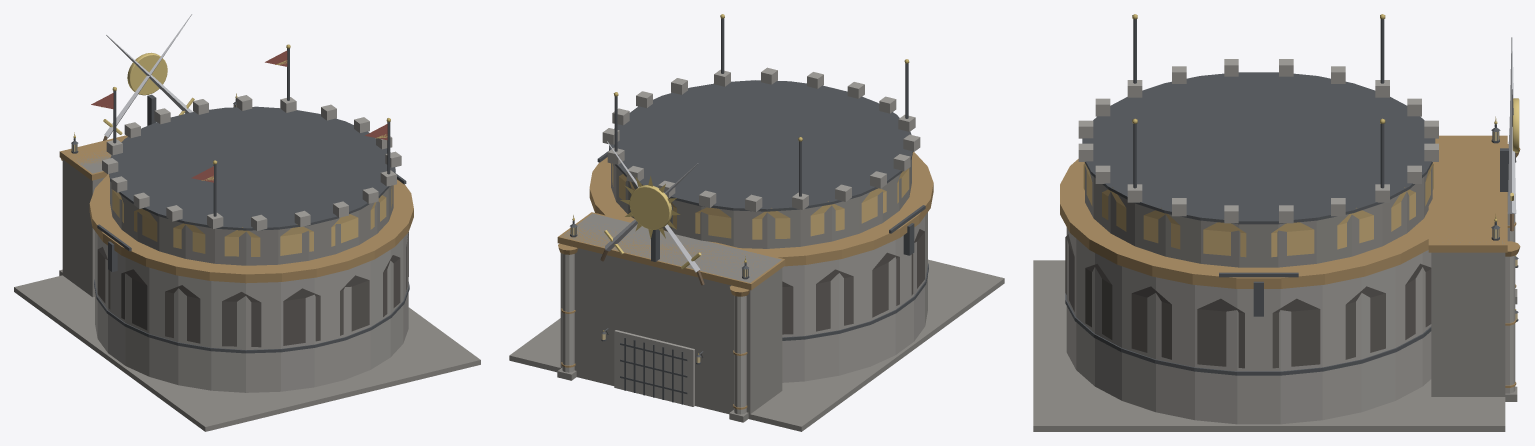
The model's file is centro-laminas-bfdc922f.glb.
3 views of the same model, side by side, from view 1: azimuth 30°, elevation 25°; view 2: azimuth 150°, elevation 25°; view 3: azimuth 270°, elevation 25° (orthographic). The views are drawn at different scales.
Visible parts, largest first — view 1: centro_laminas_body, centro_laminas_wall, centro_laminas_lamp, centro_laminas_glow; view 2: centro_laminas_body, centro_laminas_wall, centro_laminas_lamp, centro_laminas_glow; view 3: centro_laminas_body, centro_laminas_wall, centro_laminas_lamp, centro_laminas_glow.
Part boxes in pixels (x1,y1,x2,y2): centro_laminas_body: [14, 44, 480, 431]; centro_laminas_wall: [62, 151, 408, 392]; centro_laminas_lamp: [72, 105, 392, 256]; centro_laminas_glow: [91, 14, 387, 182]; centro_laminas_body: [509, 14, 1004, 431]; centro_laminas_wall: [560, 158, 927, 413]; centro_laminas_lamp: [571, 163, 909, 362]; centro_laminas_glow: [604, 141, 701, 272]; centro_laminas_body: [1033, 14, 1520, 431]; centro_laminas_wall: [1066, 166, 1505, 424]; centro_laminas_lamp: [1083, 132, 1517, 319]; centro_laminas_glow: [1507, 37, 1519, 214].
Size of the model in its own units: 15.24 by 11.91 by 18.37.
